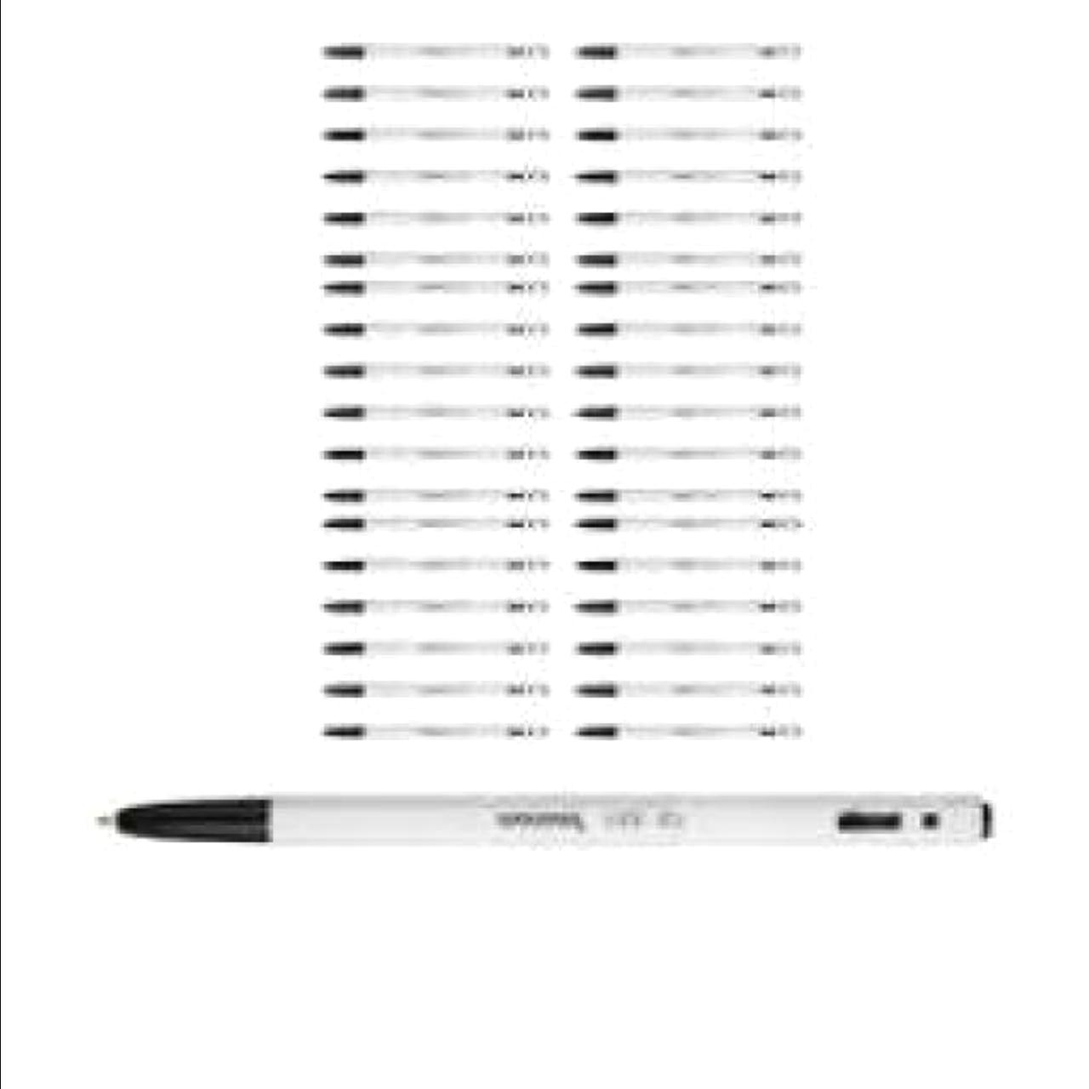pen: (80, 795, 995, 851), (310, 670, 556, 710), (313, 151, 556, 191), (310, 628, 556, 667), (310, 551, 553, 590), (315, 432, 553, 471), (322, 710, 556, 749), (310, 505, 553, 539), (315, 590, 553, 624), (570, 672, 808, 706), (318, 276, 553, 310), (323, 315, 553, 349), (565, 633, 812, 664), (568, 160, 803, 191), (315, 395, 553, 425), (315, 356, 553, 386), (568, 395, 803, 425), (573, 318, 803, 344), (570, 357, 800, 383), (573, 80, 808, 105), (318, 247, 548, 272), (315, 202, 553, 225), (310, 483, 556, 505), (313, 123, 556, 145), (323, 37, 553, 60), (315, 80, 553, 102), (573, 599, 808, 621), (570, 245, 800, 267), (570, 485, 808, 502), (570, 276, 808, 293), (573, 43, 808, 60), (573, 723, 808, 740), (568, 556, 803, 573), (568, 208, 803, 225), (573, 442, 803, 459), (573, 128, 803, 145), (565, 517, 803, 531)
